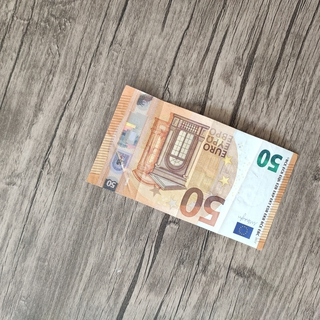50EUROFront: (82, 82, 301, 253)
